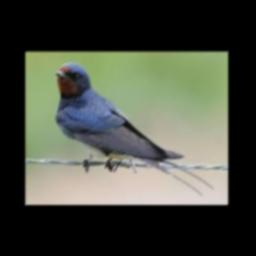Swallow: (55, 62, 215, 196)
